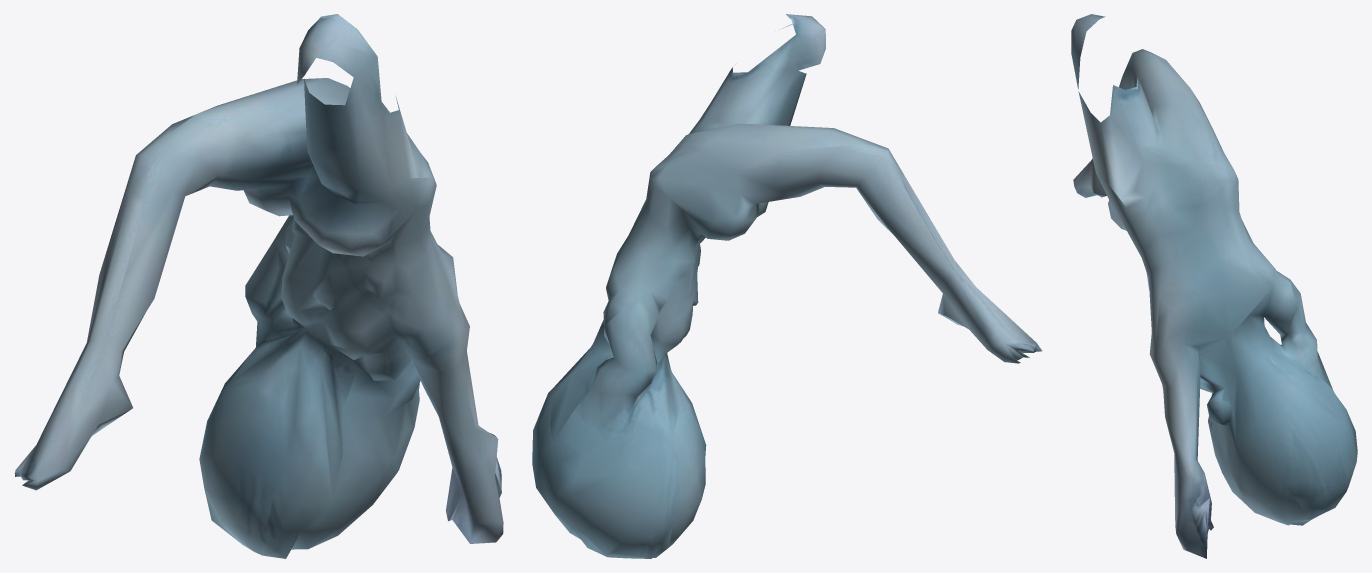
The picture shows the model from 3 angles, left to right: view 1: azimuth 30°, elevation 25°; view 2: azimuth 150°, elevation 25°; view 3: azimuth 270°, elevation 25°; orthographic projection. The views are drawn at different scales.
Visible parts, largest first — view 1: tripo_part_10; view 2: tripo_part_10; view 3: tripo_part_10.
Part boxes in pixels (left/top/right/bottom): tripo_part_10: left=14, top=14, right=503, bottom=558; tripo_part_10: left=532, top=14, right=1042, bottom=558; tripo_part_10: left=1071, top=14, right=1357, bottom=558.
Size of the model in its own units: 0.2909 by 0.3183 by 0.175.
Materials: 1 (1 with a texture image).
